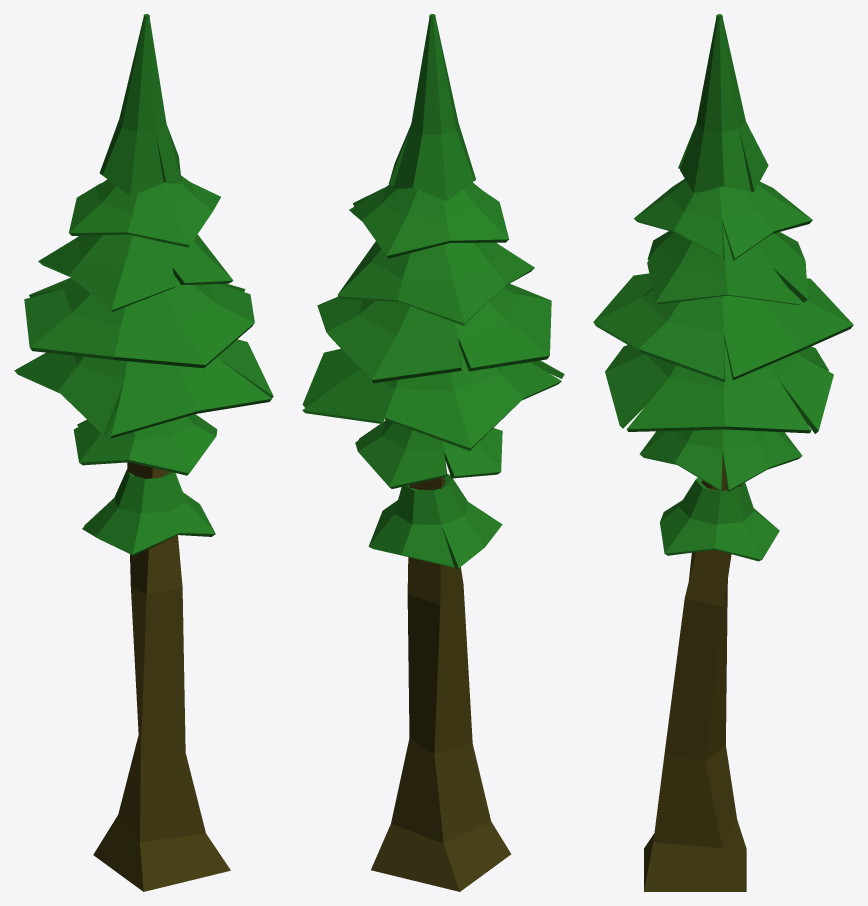
File: TallTree2.fbx
3 renders of one model, left to right at view 1: azimuth 30°, elevation 25°; view 2: azimuth 150°, elevation 25°; view 3: azimuth 270°, elevation 25°, orthographic. The views are drawn at different scales.
Visible parts, largest first — view 1: Cube.001; view 2: Cube.001; view 3: Cube.001.
Boxes of the visible parts, bbox=[...] form: Cube.001: bbox=[14, 14, 273, 891]; Cube.001: bbox=[302, 14, 564, 891]; Cube.001: bbox=[593, 14, 853, 891].
Bounding box in the file's own units: 738 × 2663 × 737.
